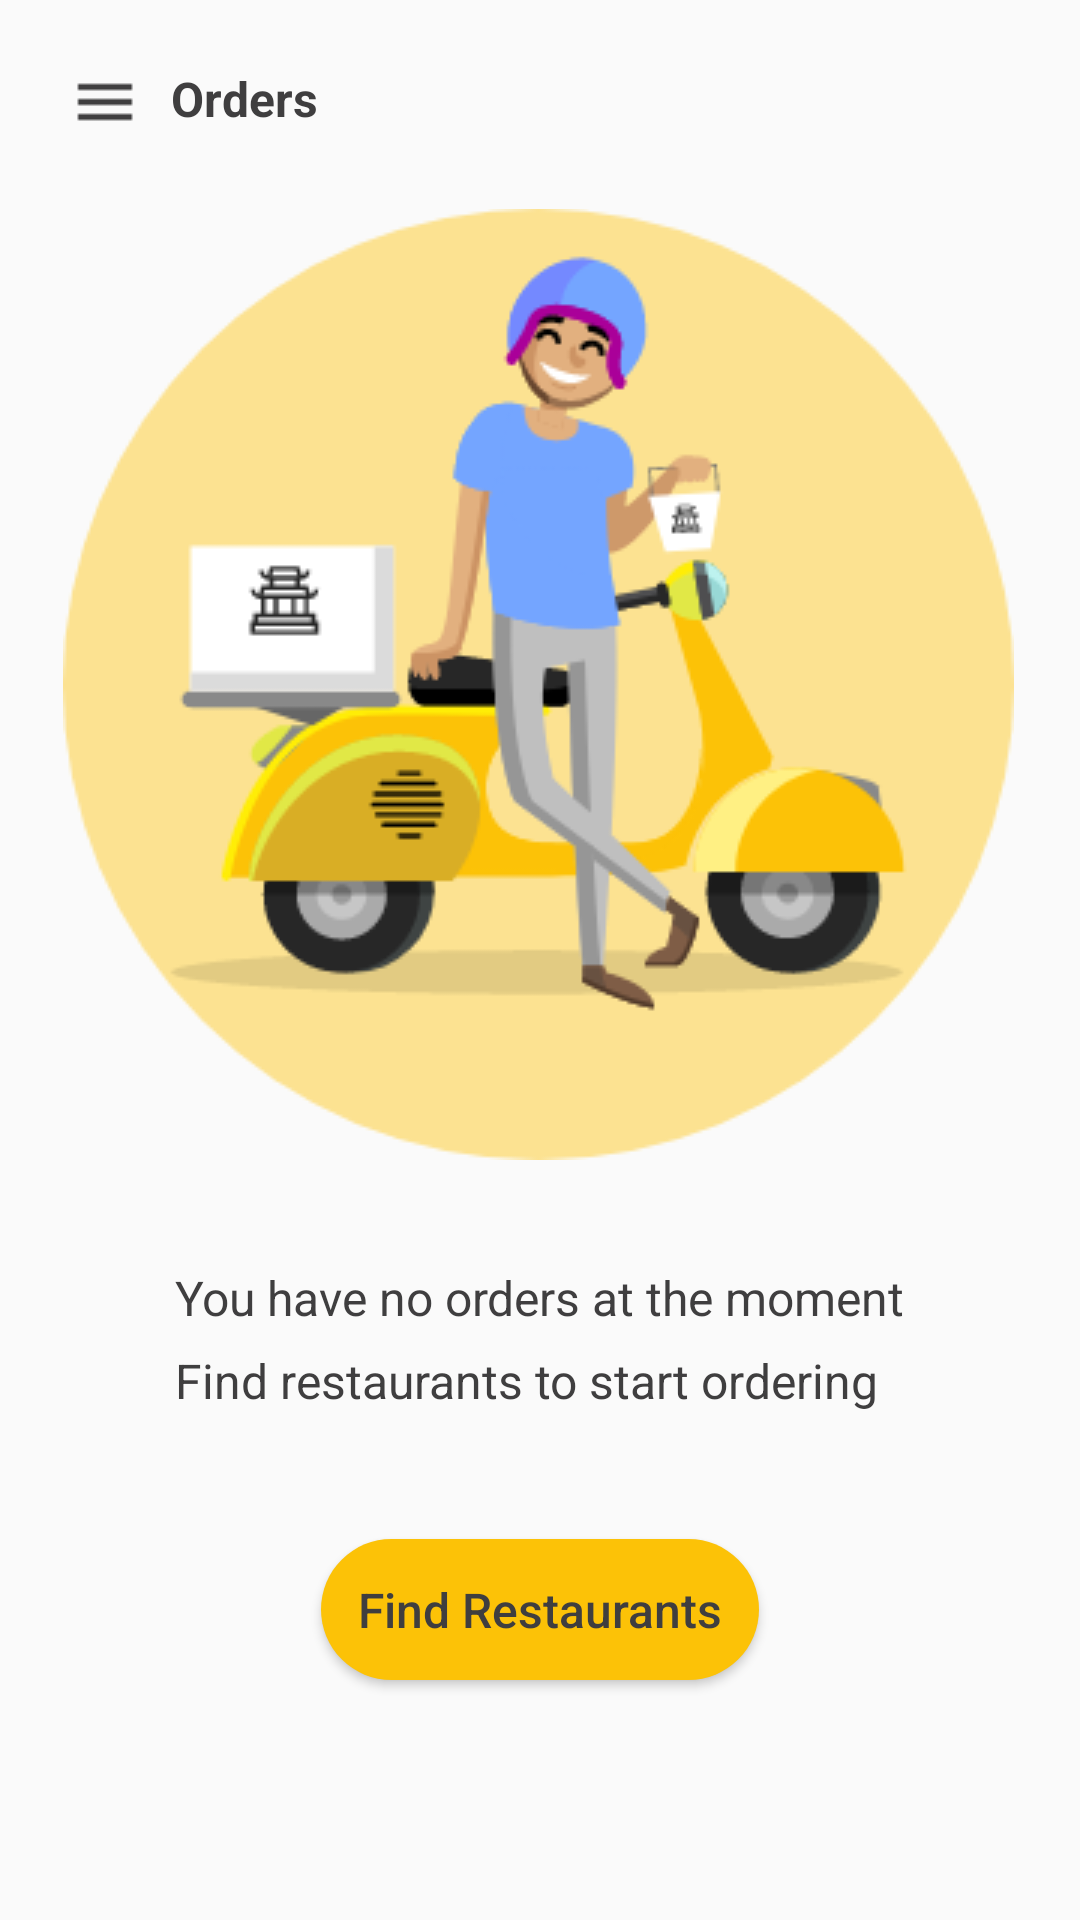

Screen size 1080w x 1920h. Icon name, then its box in pixels as (x1, y1, x2, y2):
blackburgericon: (77, 83, 133, 121)
